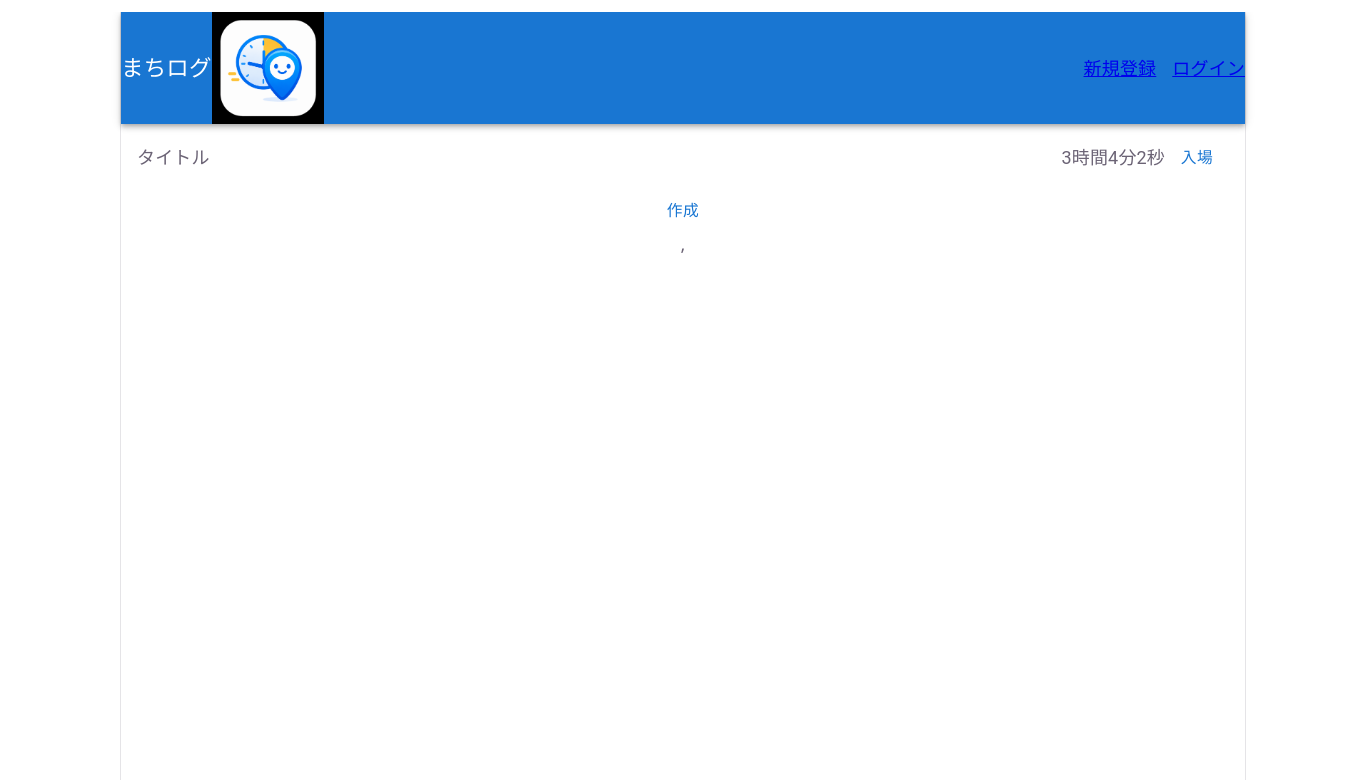
it: 入退場 › 入場ボタンをクリックすると、ローディングが表示される
What coordinates should you click on to do the following:
click the button "入場"
I would click on:
 (1197, 158)
Its box is top-left (1165, 138), bottom-right (1229, 178).
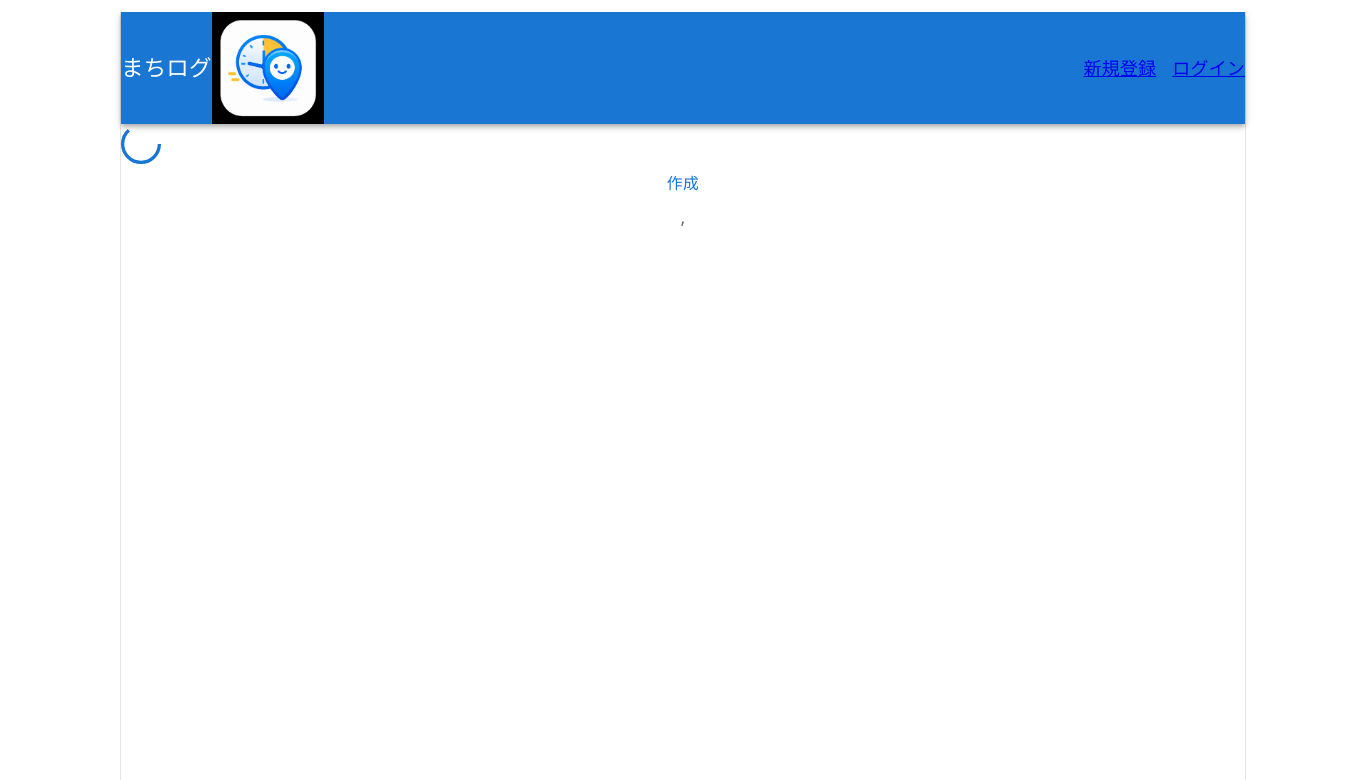
Check: the progress indicator is shown, box top-left (121, 124), bottom-right (161, 164)
